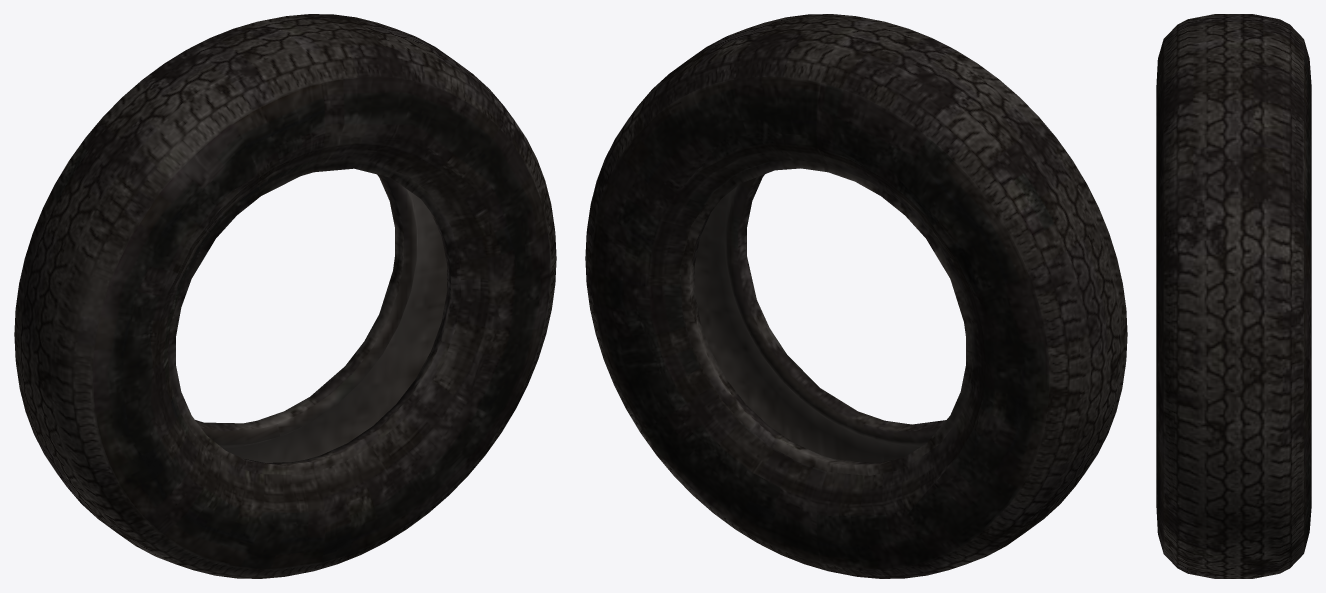
Rendered from old_tyre.glb.
3 views of the same model, side by side, from view 1: azimuth 30°, elevation 25°; view 2: azimuth 150°, elevation 25°; view 3: azimuth 270°, elevation 25° (orthographic). The views are drawn at different scales.
Visible parts, largest first — view 1: old_tyre; view 2: old_tyre; view 3: old_tyre.
Part boxes in pixels (x1,y1,x2,y2): old_tyre: [14, 14, 556, 578]; old_tyre: [585, 14, 1127, 578]; old_tyre: [1156, 14, 1311, 578].
Size of the model in its own units: 0.6 by 0.6 by 0.165.
Materials: 1 (1 with a texture image).
